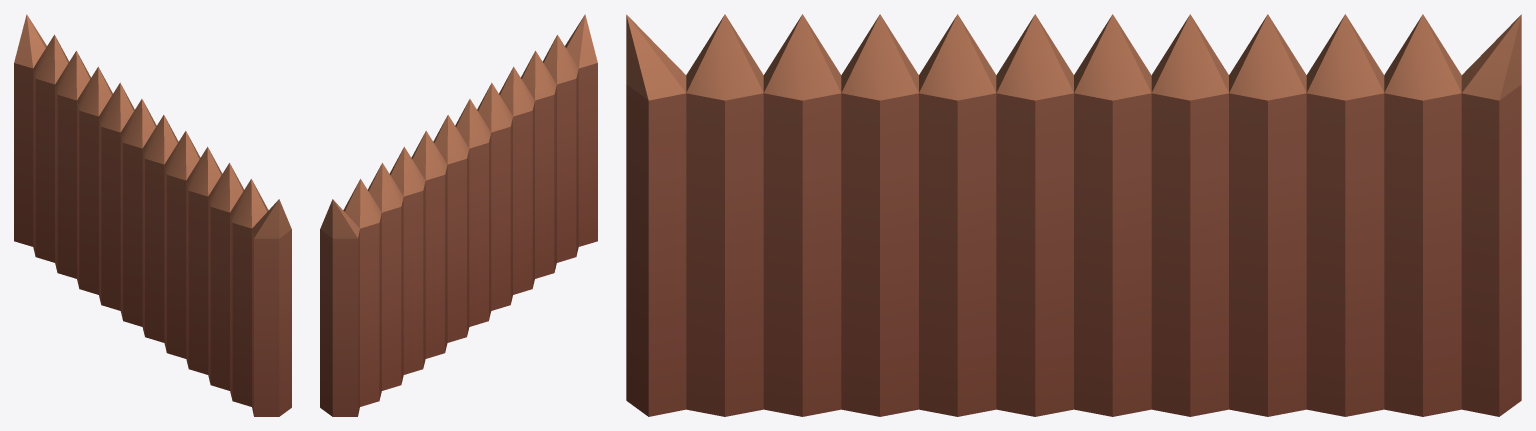
File: fence.glb
The picture shows the model from 3 angles, left to right: view 1: azimuth 30°, elevation 25°; view 2: azimuth 150°, elevation 25°; view 3: azimuth 270°, elevation 25°; orthographic projection. The views are drawn at different scales.
Visible parts, largest first — view 1: fence_wood_straight; view 2: fence_wood_straight; view 3: fence_wood_straight.
Boxes of the visible parts, bbox=[...] form: fence_wood_straight: bbox=[14, 14, 291, 416]; fence_wood_straight: bbox=[320, 14, 597, 416]; fence_wood_straight: bbox=[626, 14, 1521, 416].
Bounding box in the file's own units: 0.0999 × 0.5501 × 1.15.
1 material, 1 textured.
